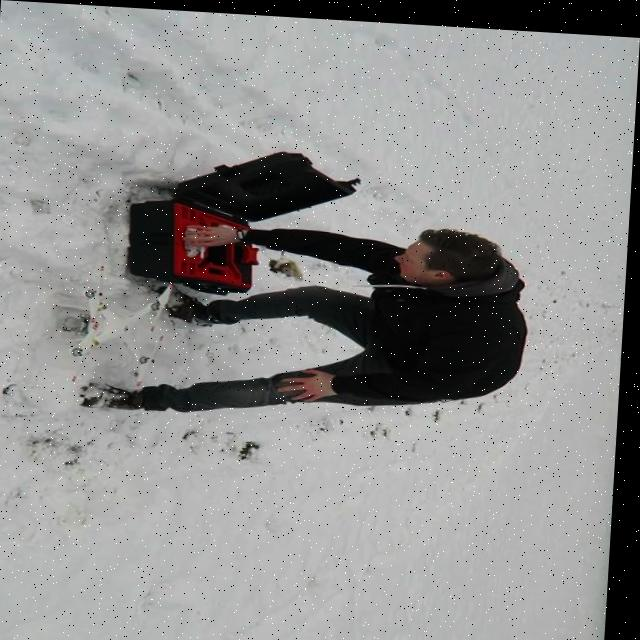drone: (56, 267, 182, 389)
